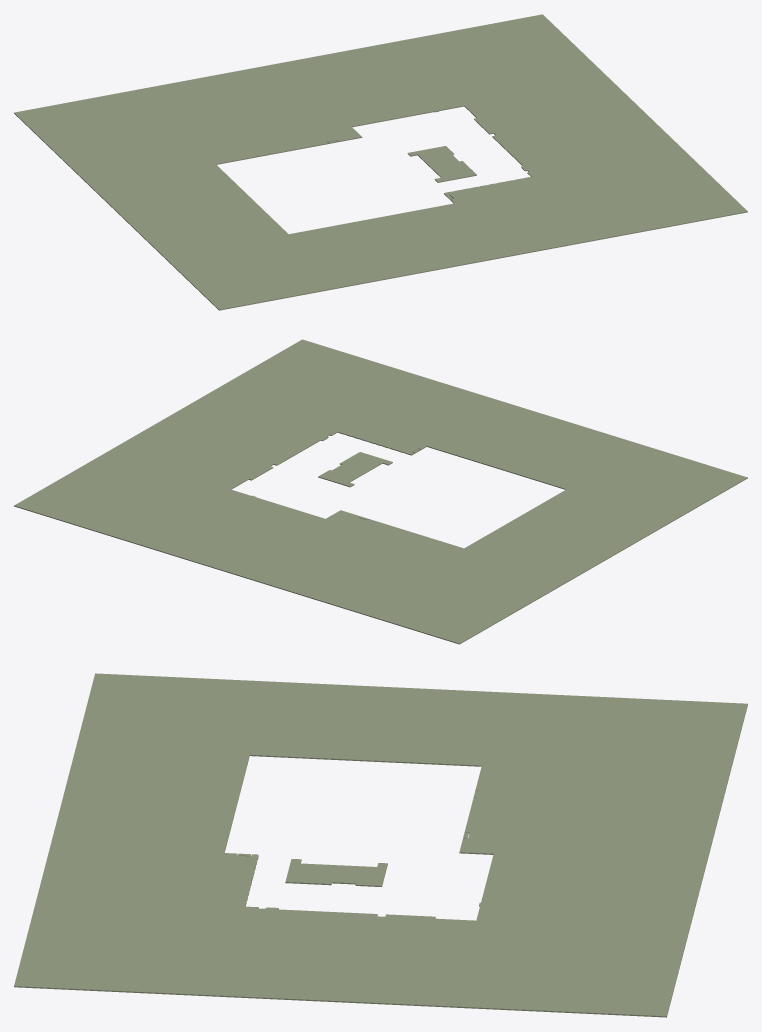
Rendered from umgebung_gelaende.glb.
3 renders of one model, top to bottom at view 1: azimuth 30°, elevation 25°; view 2: azimuth 150°, elevation 25°; view 3: azimuth 270°, elevation 25°, orthographic. The views are drawn at different scales.
Parts seen in each view (by area): view 1: umgebung_gelaende__TIB Farbe 150-158-132; view 2: umgebung_gelaende__TIB Farbe 150-158-132; view 3: umgebung_gelaende__TIB Farbe 150-158-132.
Boxes of the visible parts, <box> form: umgebung_gelaende__TIB Farbe 150-158-132: <box>14,14,747,310</box>; umgebung_gelaende__TIB Farbe 150-158-132: <box>14,339,747,644</box>; umgebung_gelaende__TIB Farbe 150-158-132: <box>14,673,747,1017</box>.
Size of the model in its own units: 185 by 0.2941 by 168.
